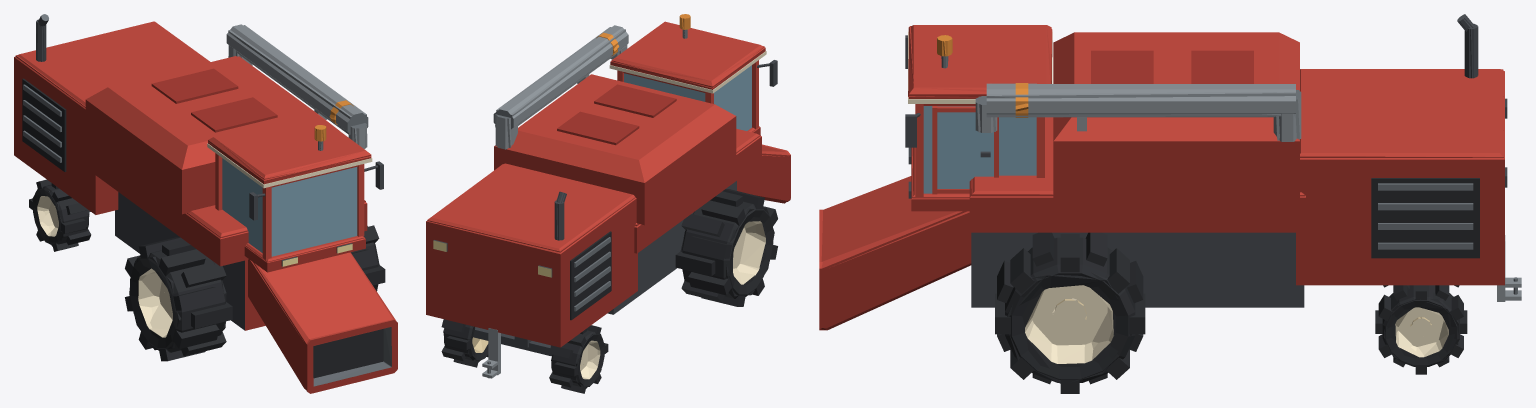
The model's file is FMS_Mach_Combine.fbx.
3 renders of one model, left to right at view 1: azimuth 30°, elevation 25°; view 2: azimuth 150°, elevation 25°; view 3: azimuth 270°, elevation 25°, orthographic. The views are drawn at different scales.
Parts seen in each view (by area): view 1: Body, Body_Low1, Wheel_FR, Feeder_Low1, Feeder, Wheel_FR_Low1, Auger_Unload, Wheel_RR, Auger_Unload_Low1, Wheel_RR_Low1, Wheel_FL; view 2: Body, Body_Low1, Wheel_FR, Auger_Unload, Wheel_FR_Low1, Wheel_RR, Feeder, Wheel_RL, Auger_Unload_Low1, Wheel_RR_Low1, Wheel_RL_Low1; view 3: Body, Body_Low1, Wheel_FL, Auger_Unload, Feeder, Feeder_Low1, Wheel_FL_Low1, Wheel_RL, Door_L, Auger_Unload_Low1, Wheel_RL_Low1.
Boxes of the visible parts, x1=… form: Body: x1=14, y1=14, x2=383, y2=330; Body_Low1: x1=15, y1=15, x2=371, y2=329; Wheel_FR: x1=125, y1=237, x2=232, y2=361; Feeder_Low1: x1=253, y1=252, x2=397, y2=393; Feeder: x1=248, y1=259, x2=397, y2=393; Wheel_FR_Low1: x1=125, y1=249, x2=226, y2=361; Auger_Unload: x1=226, y1=24, x2=368, y2=148; Wheel_RR: x1=29, y1=179, x2=91, y2=251; Auger_Unload_Low1: x1=228, y1=25, x2=367, y2=147; Wheel_RR_Low1: x1=29, y1=180, x2=89, y2=250; Wheel_FL: x1=351, y1=225, x2=385, y2=289; Body: x1=426, y1=14, x2=777, y2=378; Body_Low1: x1=427, y1=14, x2=764, y2=373; Wheel_FR: x1=675, y1=189, x2=777, y2=306; Auger_Unload: x1=493, y1=25, x2=628, y2=149; Wheel_FR_Low1: x1=680, y1=189, x2=777, y2=306; Wheel_RR: x1=549, y1=325, x2=608, y2=393; Feeder: x1=737, y1=144, x2=790, y2=203; Wheel_RL: x1=441, y1=319, x2=488, y2=367; Auger_Unload_Low1: x1=495, y1=27, x2=626, y2=147; Wheel_RR_Low1: x1=551, y1=325, x2=608, y2=393; Wheel_RL_Low1: x1=442, y1=320, x2=488, y2=366; Body: x1=905, y1=14, x2=1521, y2=307; Body_Low1: x1=908, y1=14, x2=1515, y2=307; Wheel_FL: x1=995, y1=232, x2=1145, y2=393; Auger_Unload: x1=975, y1=83, x2=1301, y2=141; Feeder: x1=819, y1=209, x2=971, y2=330; Feeder_Low1: x1=819, y1=176, x2=971, y2=330; Wheel_FL_Low1: x1=997, y1=232, x2=1143, y2=384; Wheel_RL: x1=1375, y1=285, x2=1467, y2=374; Door_L: x1=932, y1=106, x2=998, y2=194; Auger_Unload_Low1: x1=977, y1=83, x2=1299, y2=140; Wheel_RL_Low1: x1=1375, y1=285, x2=1467, y2=365.
Size of the model in its own units: 3.6 by 4 by 8.4.
Materials: 1 (1 with a texture image).
